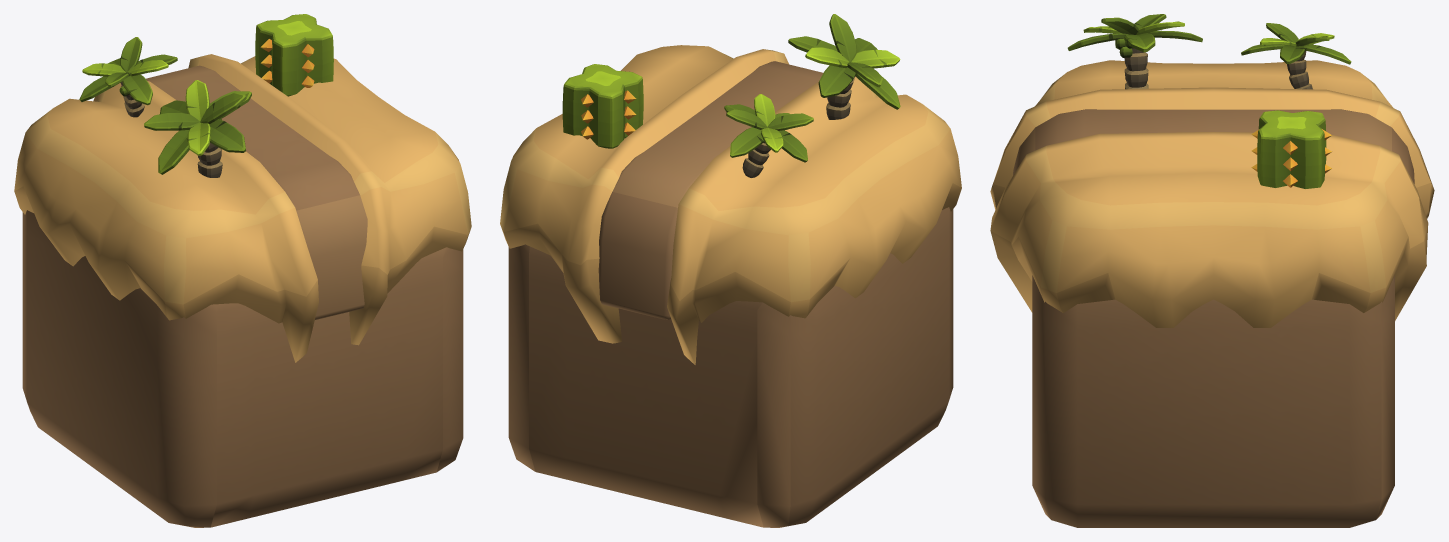
The model's file is Desert1.fbx.
3 renders of one model, left to right at view 1: azimuth 30°, elevation 25°; view 2: azimuth 150°, elevation 25°; view 3: azimuth 270°, elevation 25°, orthographic. The views are drawn at different scales.
Visible parts, largest first — view 1: Desert1, Desert_Cube1.001, Road1.001, Desert_Cube_01.002; view 2: Desert1, Desert_Cube1.001, Road1.001, Desert_Cube_01.002; view 3: Desert_Cube1.001, Desert1, Desert_Cube_01.002, Road1.001.
Part boxes in pixels (x1,y1,x2,y2): Desert1: (22,210,463,527); Desert_Cube1.001: (14,54,471,362); Road1.001: (146,65,367,319); Desert_Cube_01.002: (79,14,333,177); Desert1: (508,207,953,527); Desert_Cube1.001: (500,45,961,364); Road1.001: (598,61,823,319); Desert_Cube_01.002: (562,14,900,177); Desert_Cube1.001: (990,60,1434,327); Desert1: (1032,275,1394,527); Desert_Cube_01.002: (1067,14,1351,188); Road1.001: (1013,109,1414,183).
Size of the model in its own units: 116 by 129 by 122.
